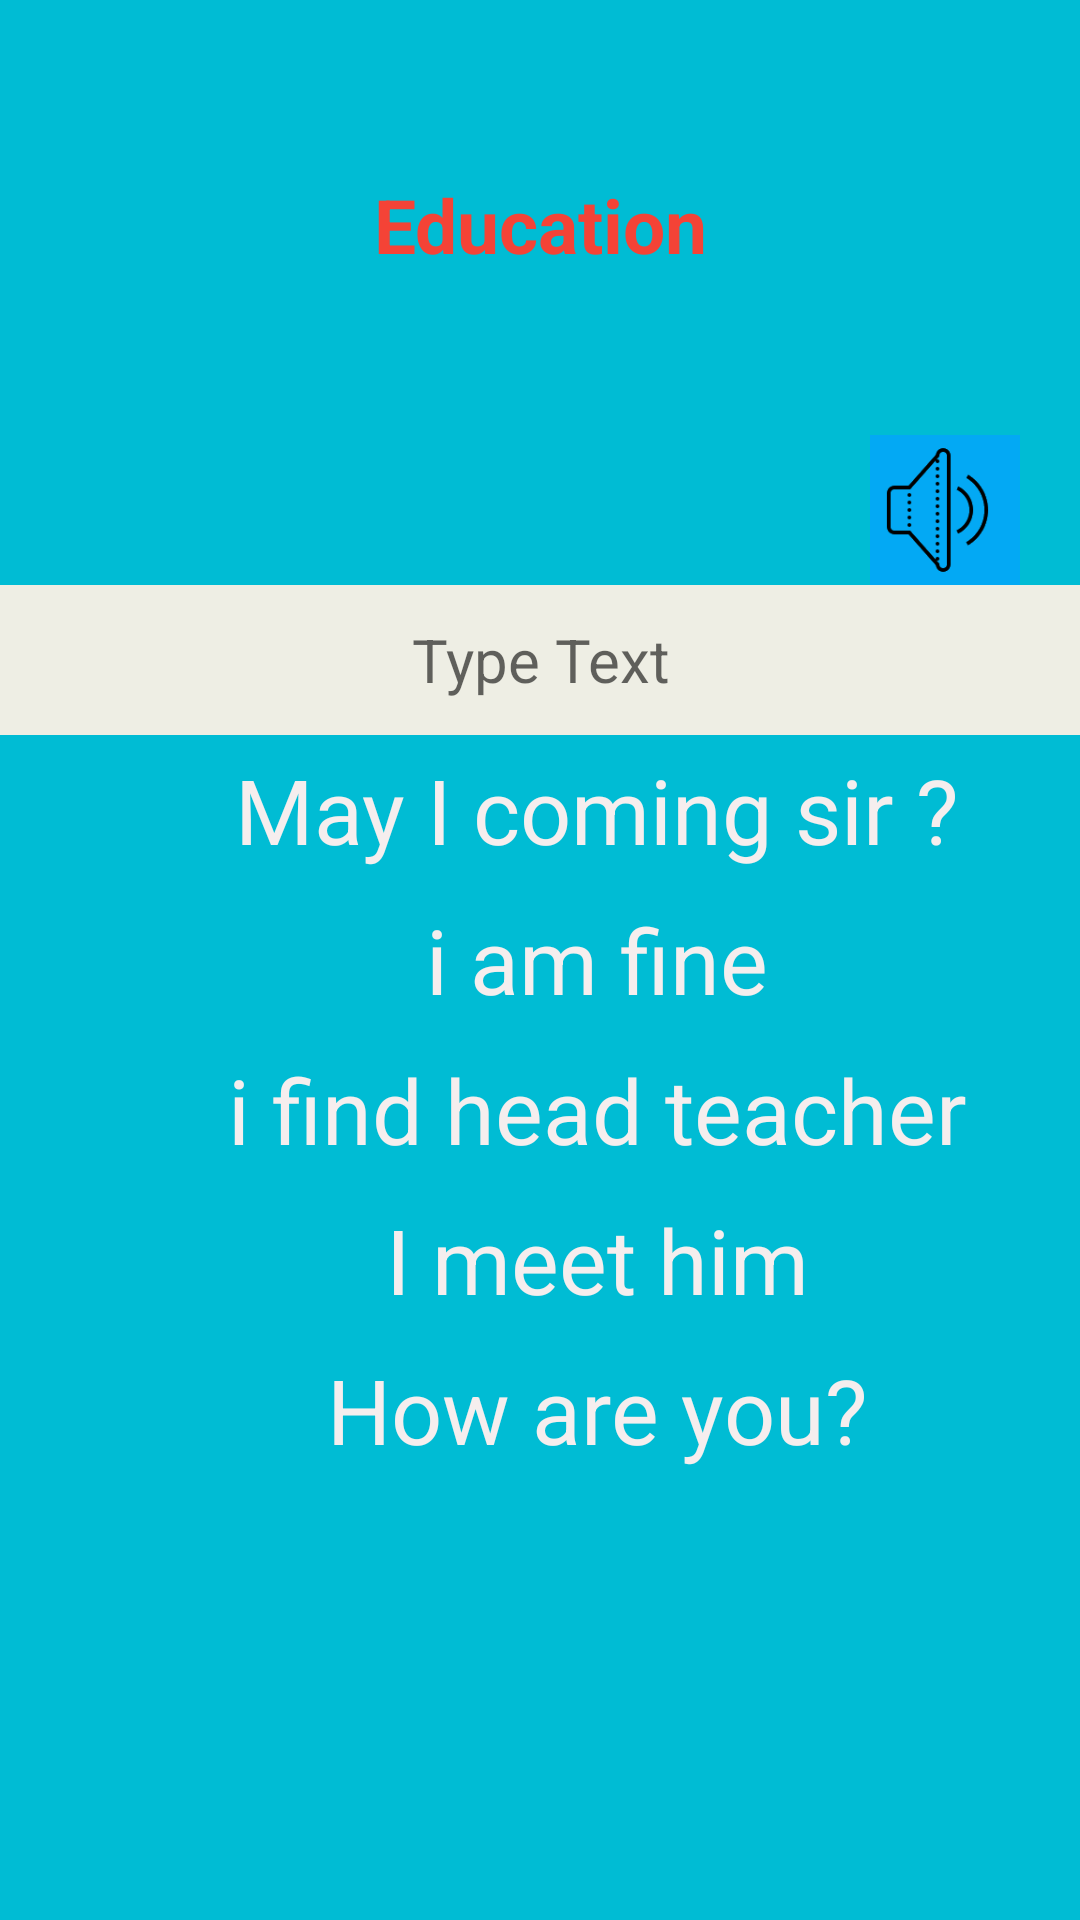

Where icons sit on this 1080px×1920px app screen, as (x1, y1, x2, y2):
speka: (870, 435, 1020, 585)
